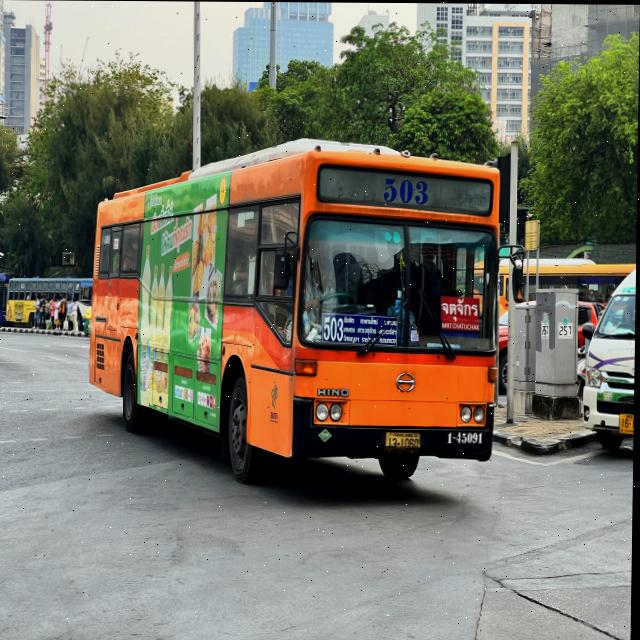BMTA-bus: (86, 126, 507, 501)
Bus Line Number: (378, 170, 437, 210)
Bus Side Number: (446, 428, 487, 446)
Destination Sign: (440, 295, 481, 333)
